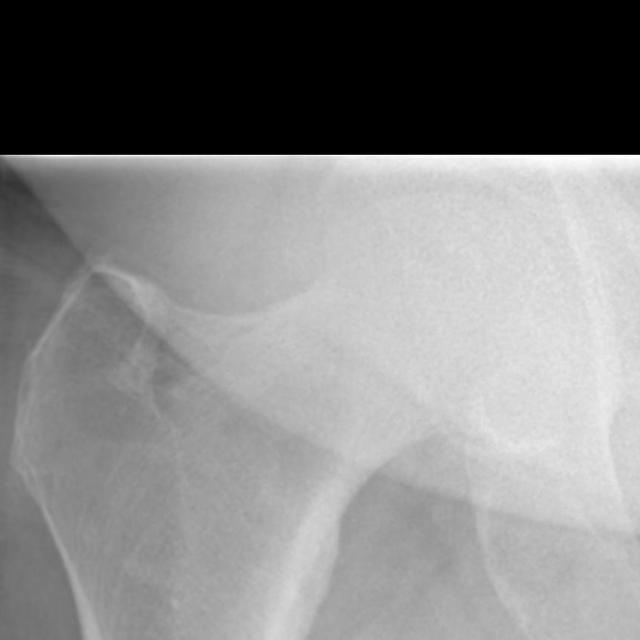Fitted_femural_head: (300, 196, 432, 300)
